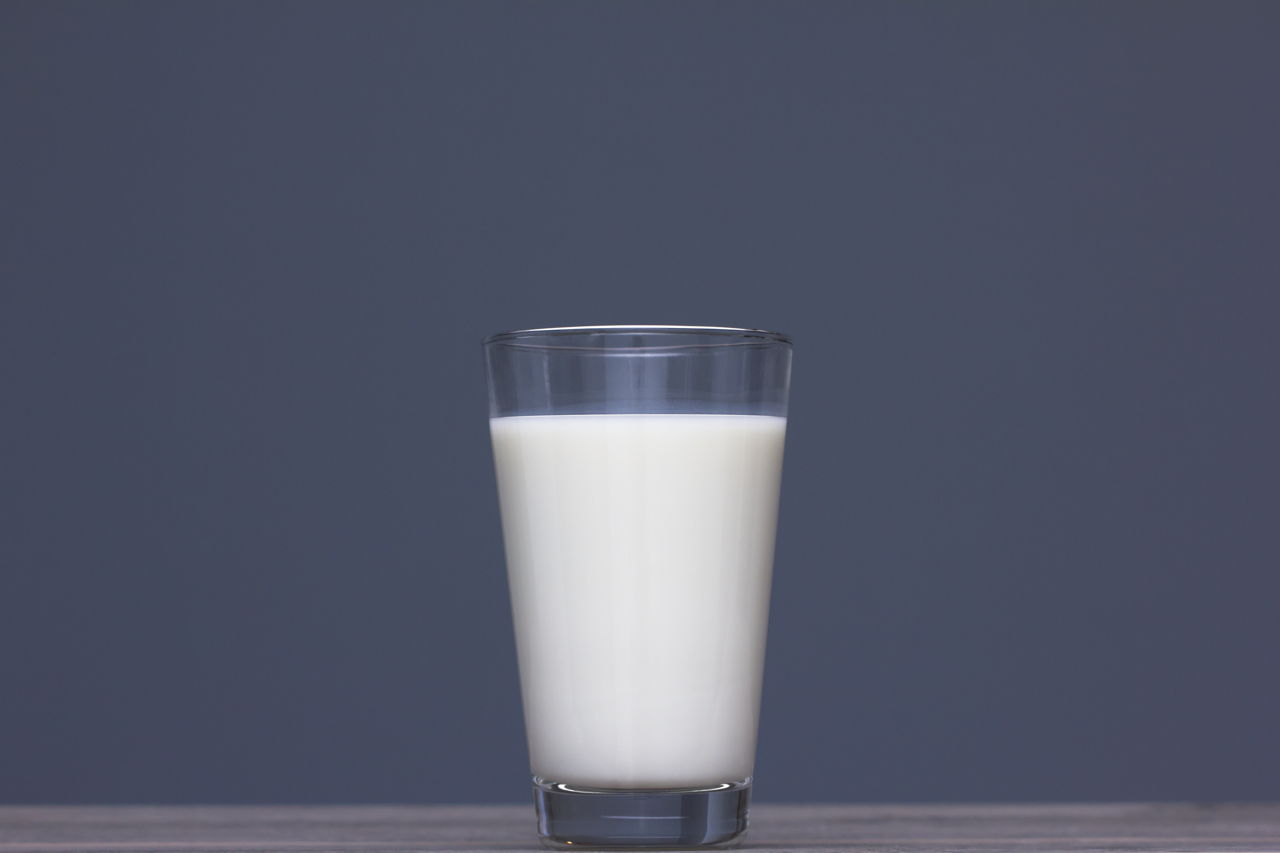glass of milk: (467, 305, 799, 845)
